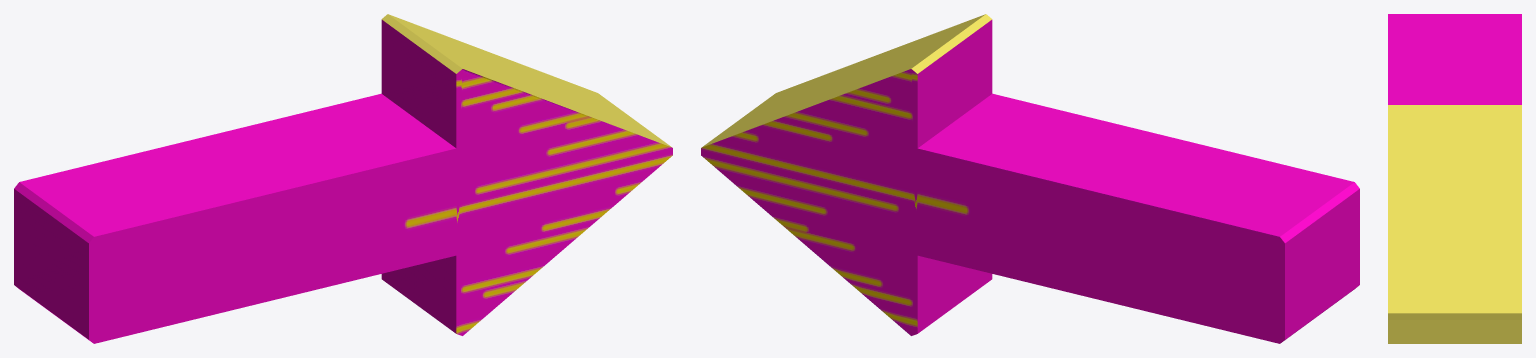
Rendered from Arrow_v2.fbx.
3 renders of one model, left to right at view 1: azimuth 30°, elevation 25°; view 2: azimuth 150°, elevation 25°; view 3: azimuth 270°, elevation 25°, orthographic. The views are drawn at different scales.
Visible parts, largest first — view 1: Arrow; view 2: Arrow; view 3: Arrow.
Part boxes in pixels (x1,y1,x2,y2): Arrow: [14, 14, 672, 343]; Arrow: [701, 14, 1359, 343]; Arrow: [1388, 14, 1521, 343].
Bounding box in the file's own units: 4.97 × 2.17 × 1.1.
2 materials, 1 textured.
